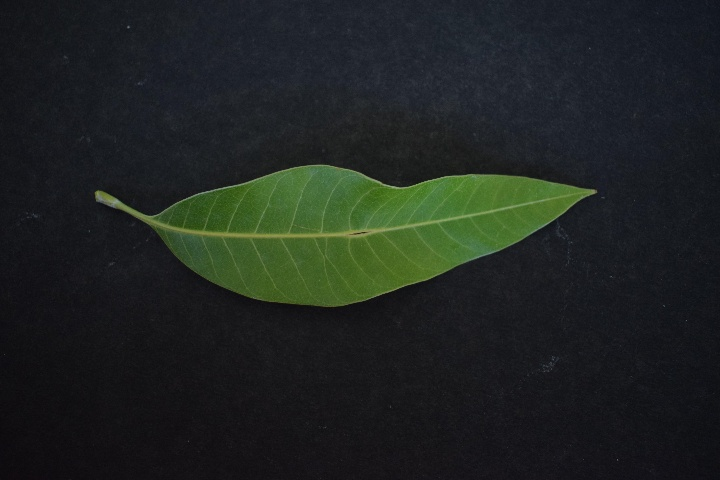healthy: (158, 162, 565, 308)
